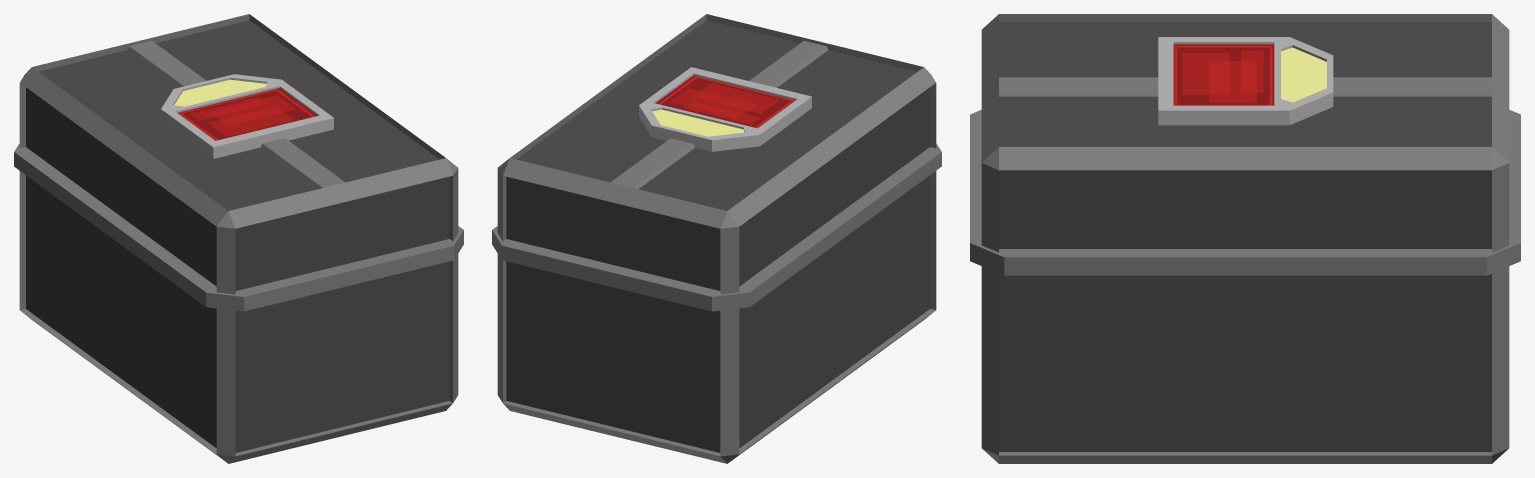
The model's file is Locked_Crate_2x3.fbx.
3 renders of one model, left to right at view 1: azimuth 30°, elevation 25°; view 2: azimuth 150°, elevation 25°; view 3: azimuth 270°, elevation 25°, orthographic. The views are drawn at different scales.
Visible parts, largest first — view 1: Locked_Crate_2x3; view 2: Locked_Crate_2x3; view 3: Locked_Crate_2x3.
Part boxes in pixels (x1,y1,x2,y2): Locked_Crate_2x3: (14,14,463,463); Locked_Crate_2x3: (492,14,941,463); Locked_Crate_2x3: (970,14,1520,463).
Size of the model in its own units: 202 by 194 by 299.
